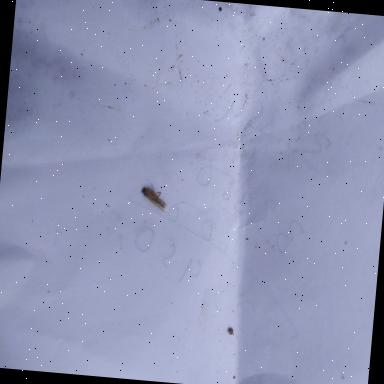pbw: (140, 184, 170, 214)
